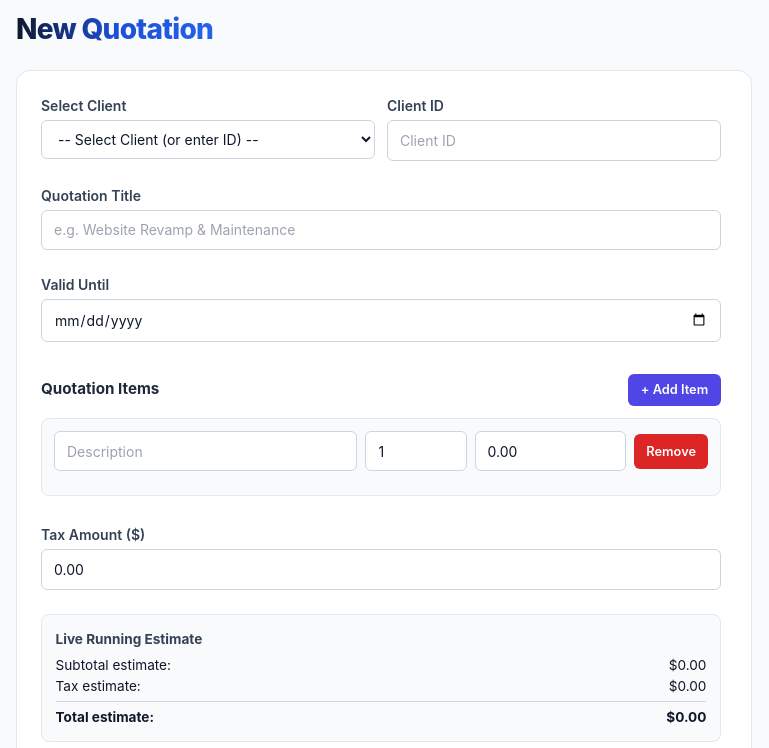
Scenario: QuotationFormPage Component (QUOT-013) › Test 1: Add and remove item rows successfully
Expected: the number of elements with test id "item-row" is 1, [41, 418, 721, 496]
Click the button "+ Add Item": [674, 390] box [628, 374, 721, 406]
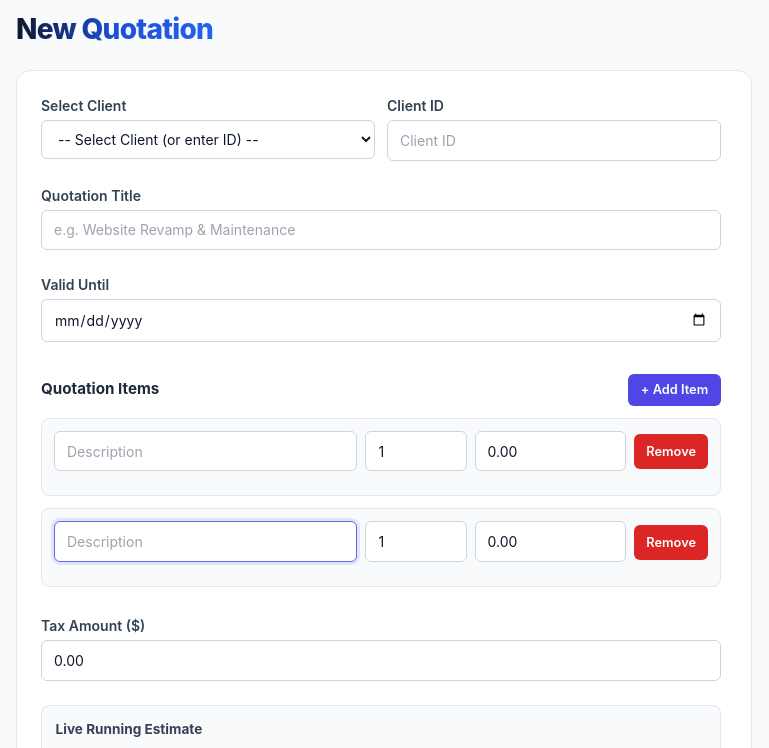
Result: the number of elements with test id "item-row" is 2 at [41, 418, 721, 496]; [41, 508, 721, 587]
Click the 2nd button "Remove": [671, 542] box [634, 524, 708, 560]
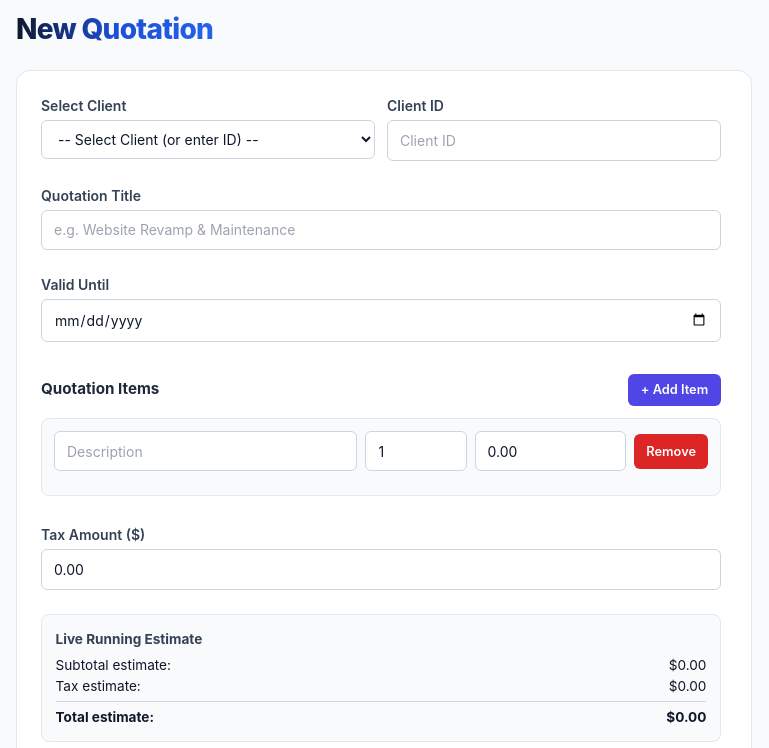
Result: the number of elements with test id "item-row" is 1 at [41, 418, 721, 496]
